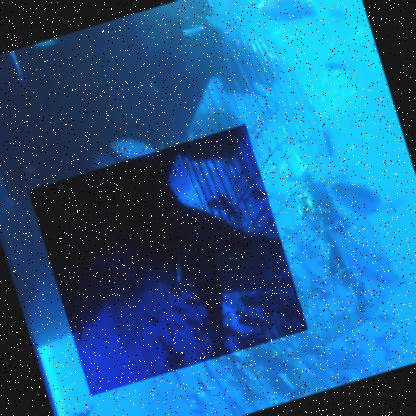white-shark: (28, 124, 309, 396)
